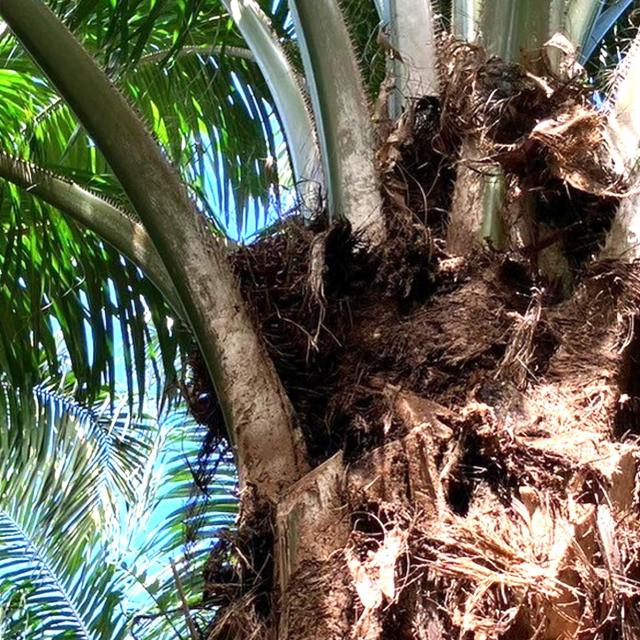ripe: (220, 219, 348, 378)
